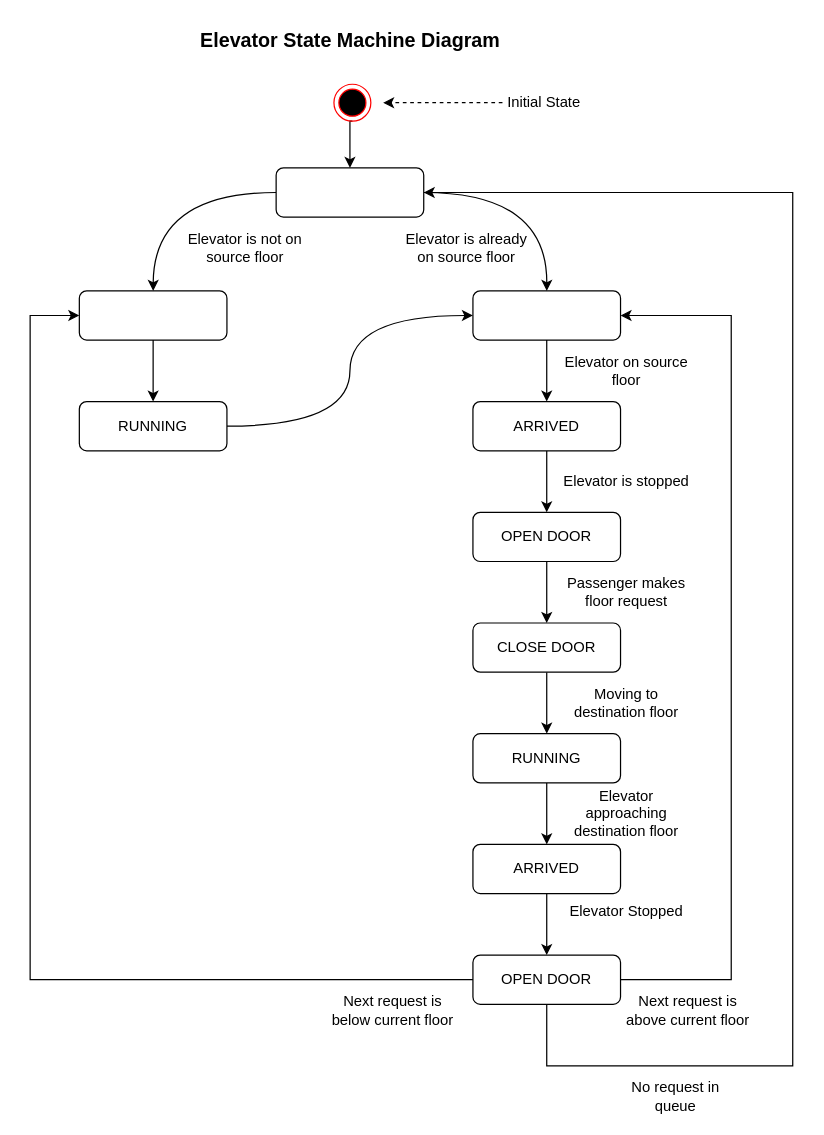
This 824x1135 diagram has some shape labels left out. The shapes that lost their labels are listed below. From the top down, each one's centre as x and y in pixels, then its label:
the point at 349,192: IDLE
the point at 152,315: DOWN
the point at 546,315: UP
